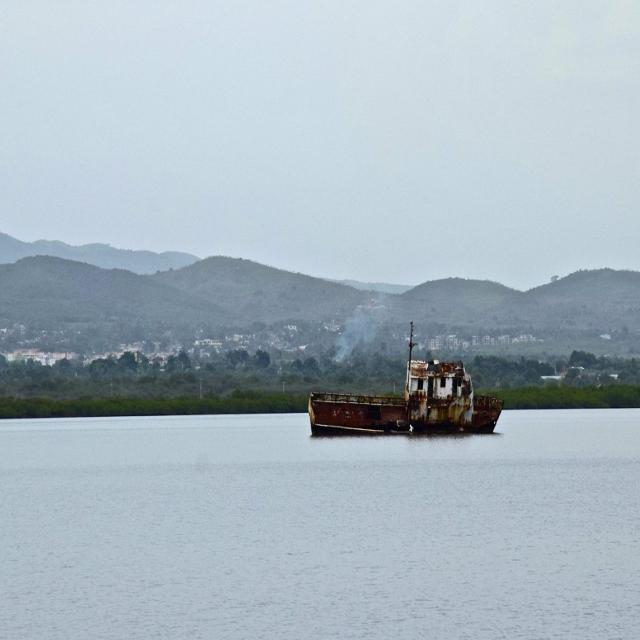fishing boat: (301, 348, 501, 435)
